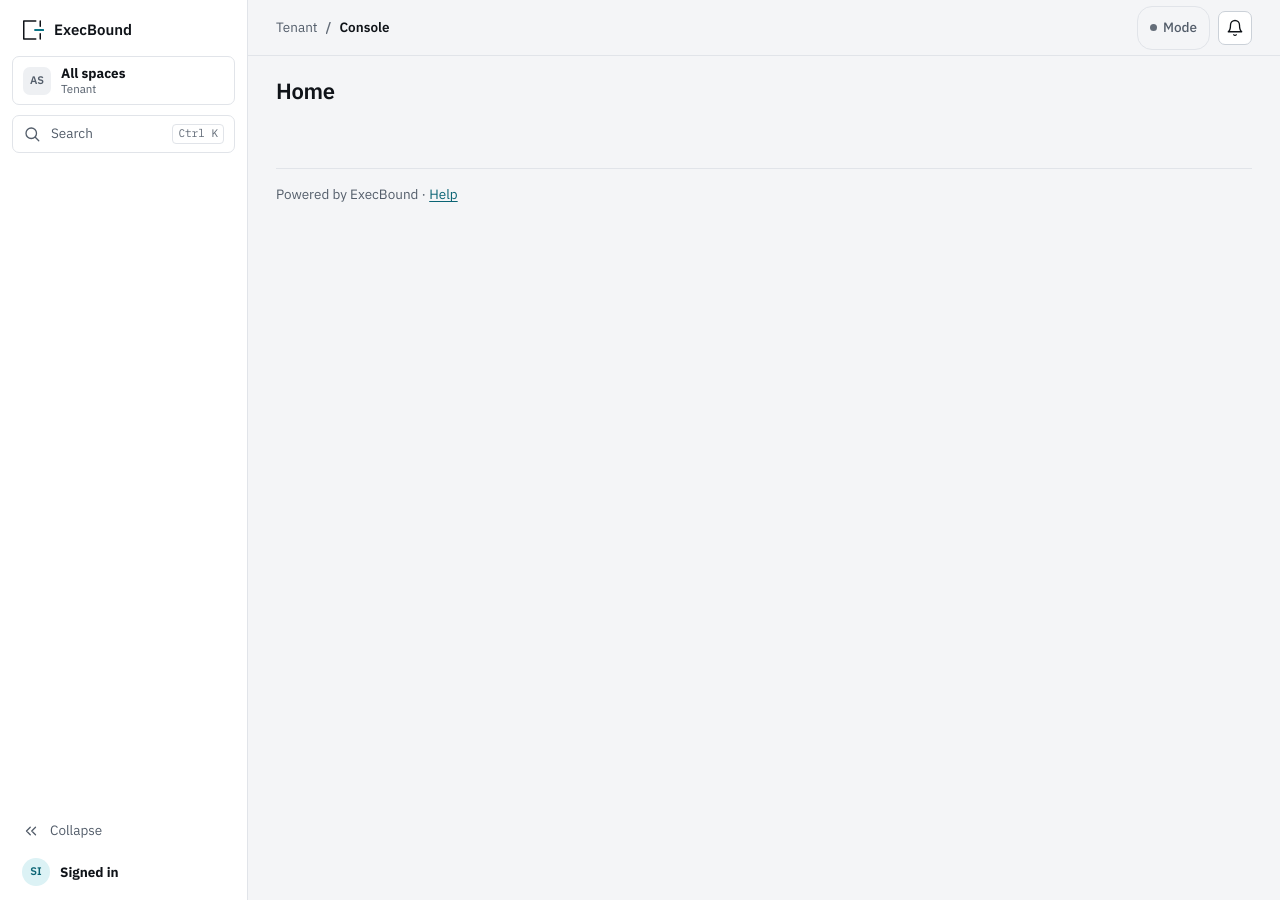
the shell › collapses to a rail and remembers it, and opens the palette on Ctrl K
Expected: the heading "Home" is shown, [276,78,335,104]
Click the button with aria-label "Collapse the sidebar": (124, 831) [12,814,235,848]
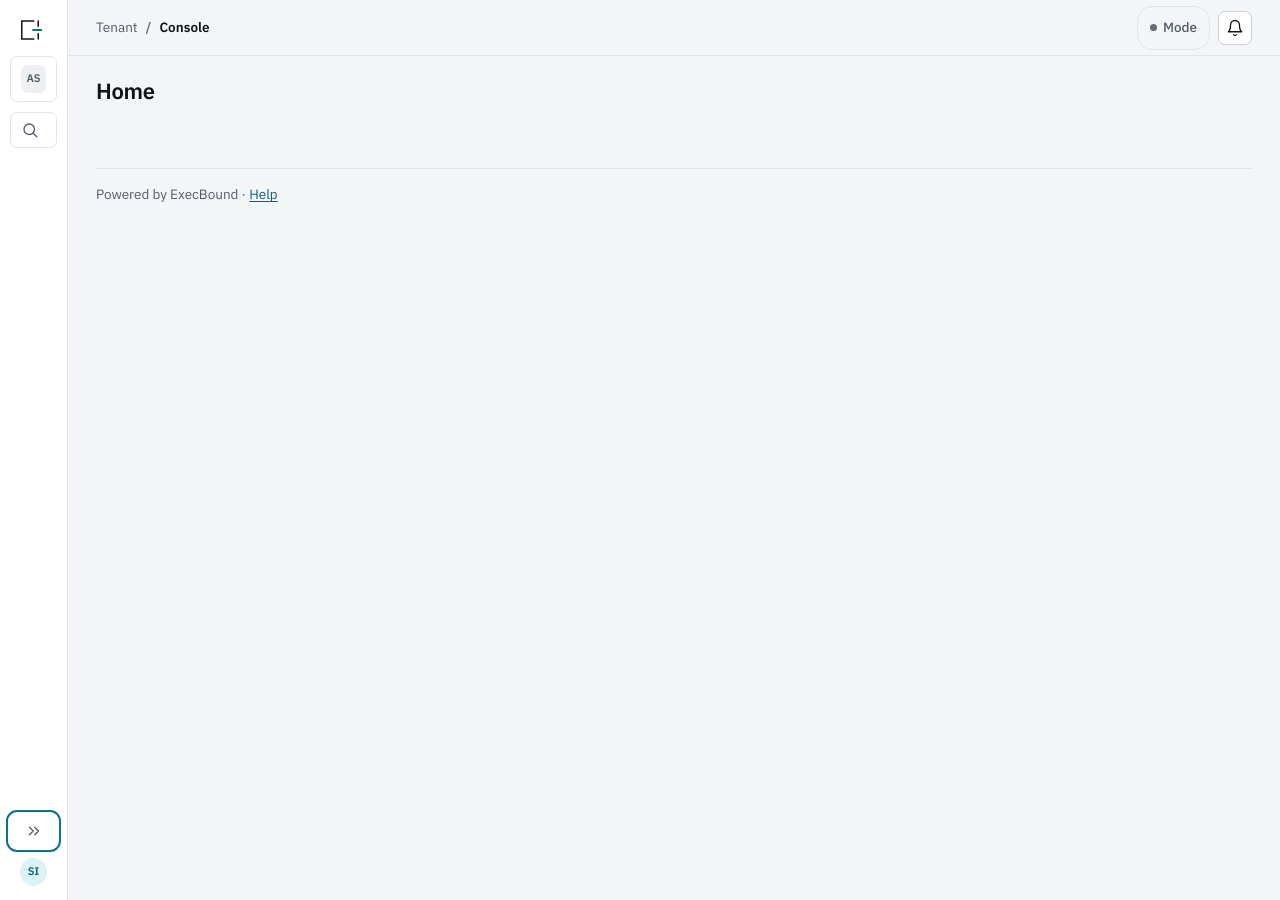
Expected: the button named "Expand the sidebar" is pressed, [10,814,57,848]
Type keys "{Control>}k{/Control}"
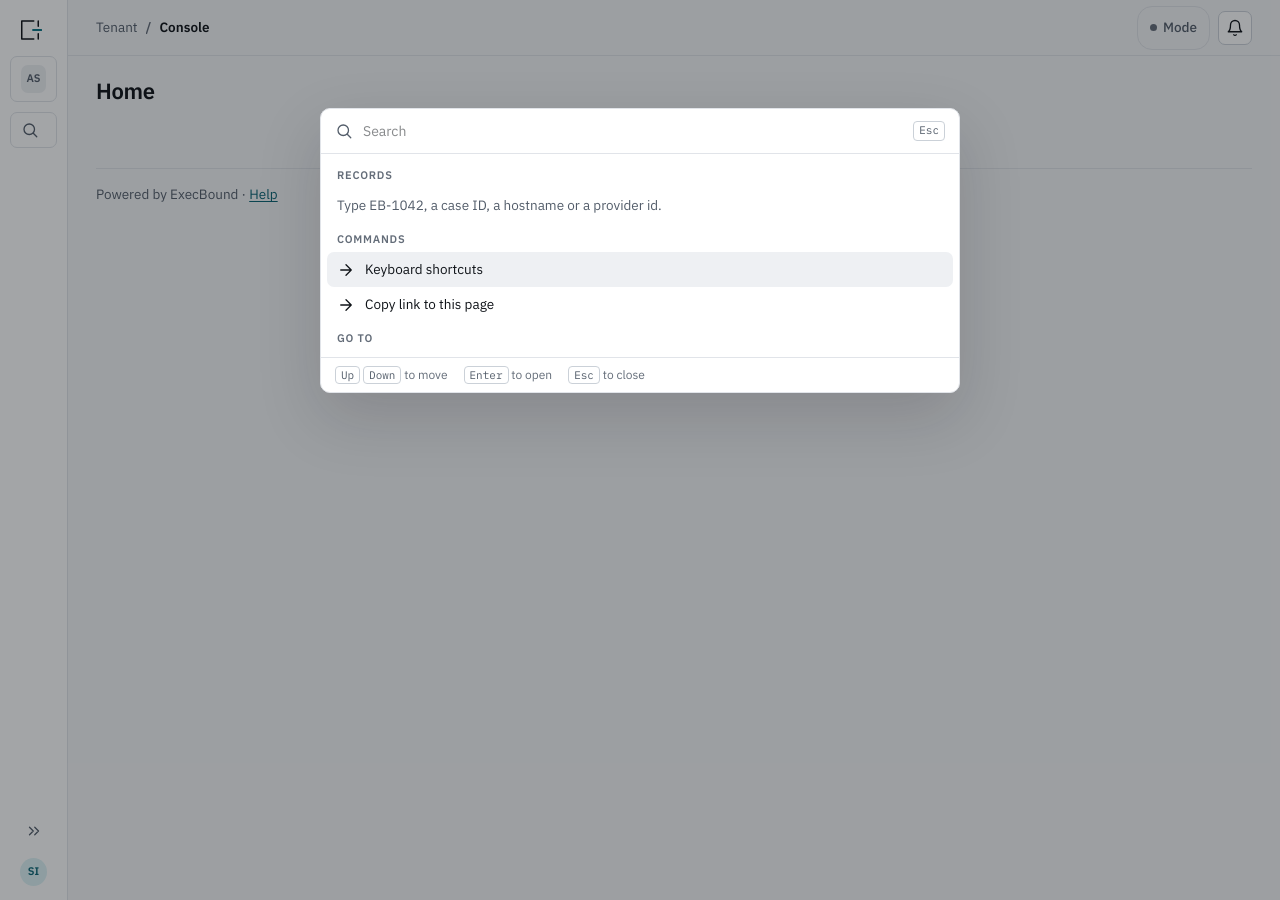
Expected: the dialog named "Search" is shown, [320,108,960,393]
Press Escape
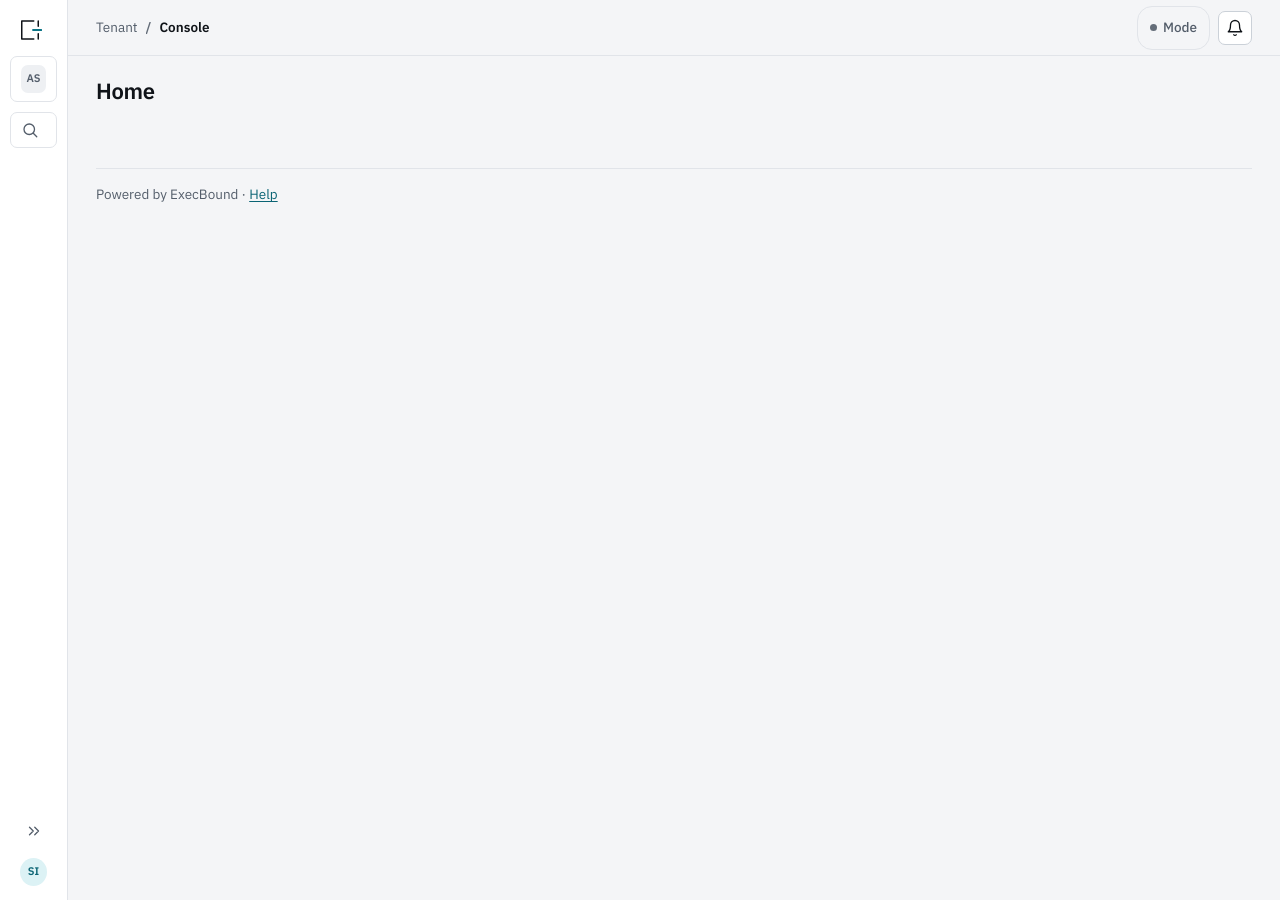
Expected: the dialog is gone
